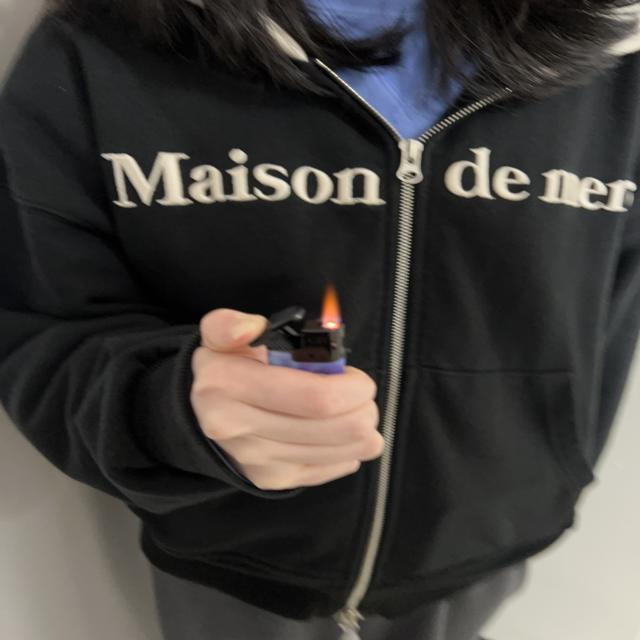fire: (317, 286, 344, 332)
